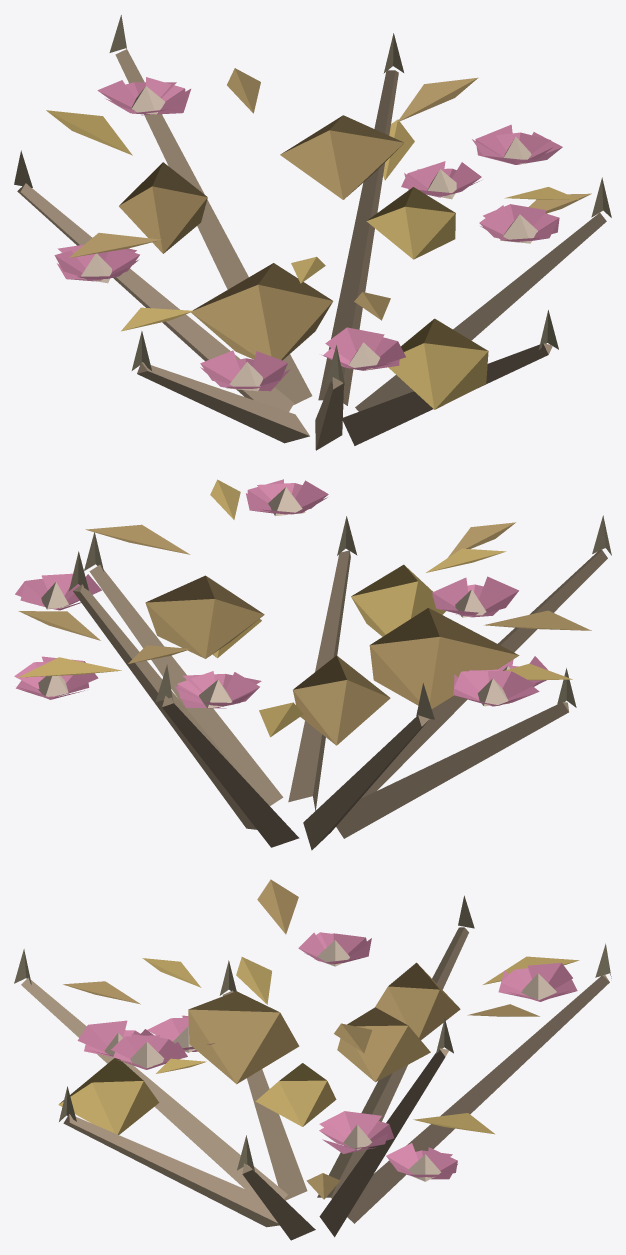
File: guan.xuangouzi@flowering__autumn.glb
3 views of the same model, one above another, from view 1: azimuth 30°, elevation 25°; view 2: azimuth 150°, elevation 25°; view 3: azimuth 270°, elevation 25° (orthographic). The views are drawn at different scales.
Visible parts, largest first — view 1: guan.xuangouzi@flowering__autumn; view 2: guan.xuangouzi@flowering__autumn; view 3: guan.xuangouzi@flowering__autumn.
Boxes of the visible parts, box(x1,y1,x2,y2) form: guan.xuangouzi@flowering__autumn: box(14, 15, 611, 450); guan.xuangouzi@flowering__autumn: box(14, 479, 611, 850); guan.xuangouzi@flowering__autumn: box(14, 879, 611, 1240).
Bounding box in the file's own units: 2.76 × 1.46 × 2.92.
